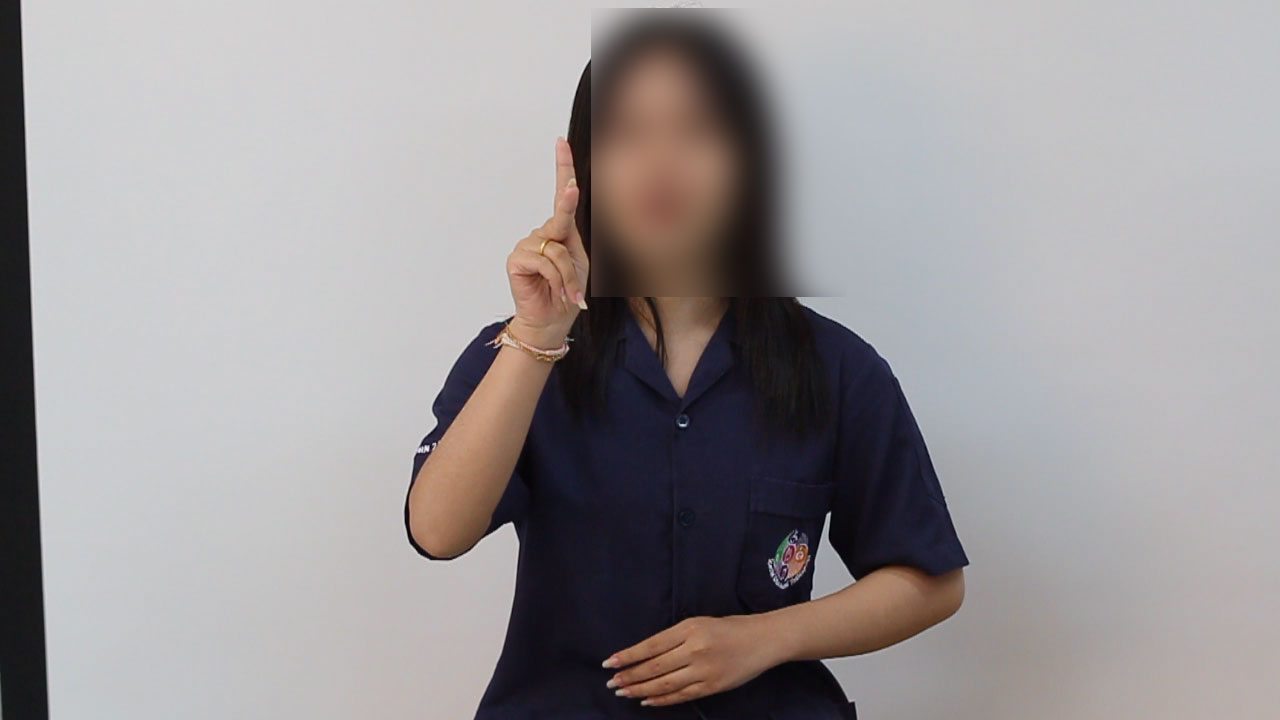ko: (474, 123, 629, 393)
